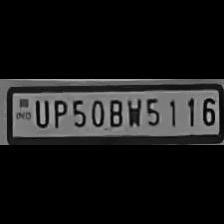0: (87, 96, 105, 126)
1: (164, 95, 181, 127), (181, 94, 197, 126)
5: (142, 95, 162, 127), (68, 96, 86, 128)
6: (198, 93, 216, 126)
B: (104, 96, 124, 128)
P: (49, 96, 67, 128)
U: (32, 95, 50, 127)
W: (124, 95, 142, 127)
